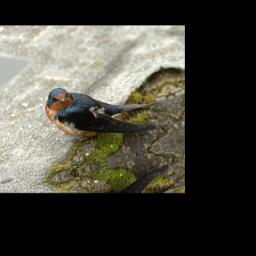Swallow: (38, 56, 178, 158)
